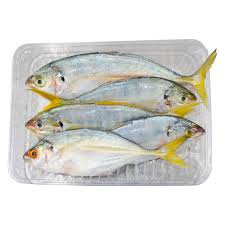Ikan Selar: (27, 51, 210, 99), (20, 129, 187, 175)
